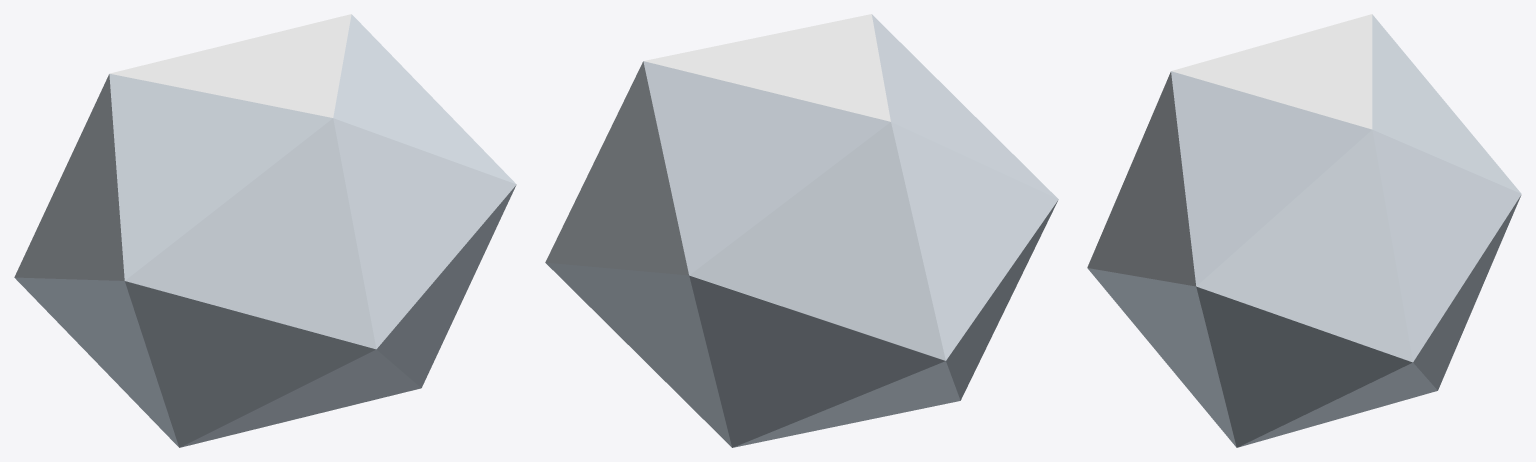
File: Snowball.fbx
3 views of the same model, side by side, from view 1: azimuth 30°, elevation 25°; view 2: azimuth 150°, elevation 25°; view 3: azimuth 270°, elevation 25° (orthographic). The views are drawn at different scales.
Parts seen in each view (by area): view 1: Snowball; view 2: Snowball; view 3: Snowball.
Part boxes in pixels (x1=…): Snowball: x1=14, y1=14, x2=516, y2=447; Snowball: x1=545, y1=14, x2=1058, y2=447; Snowball: x1=1087, y1=14, x2=1521, y2=447.
Bounding box in the file's own units: 0.1286 × 0.102 × 0.1258.
